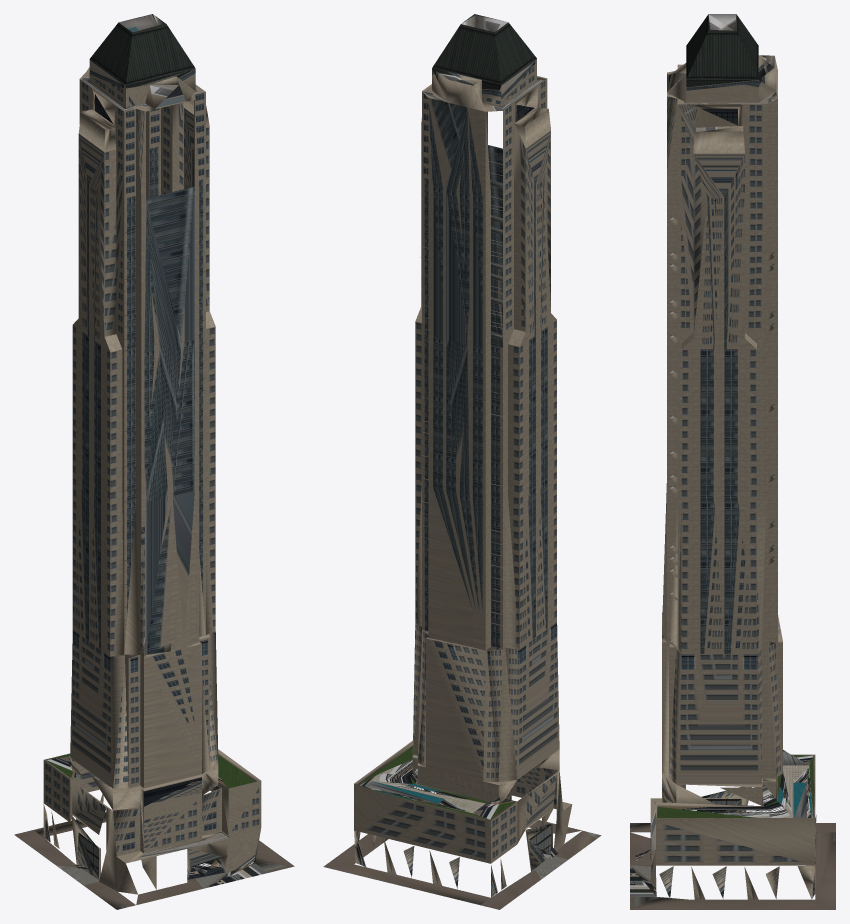
Rendered from thap-cao.glb.
The picture shows the model from 3 angles, left to right: view 1: azimuth 30°, elevation 25°; view 2: azimuth 150°, elevation 25°; view 3: azimuth 270°, elevation 25°; orthographic projection.
Visible parts, largest first — view 1: hirise13_Material #26_0; view 2: hirise13_Material #26_0; view 3: hirise13_Material #26_0.
Part boxes in pixels (x1=…): hirise13_Material #26_0: x1=14, y1=14, x2=294, y2=909; hirise13_Material #26_0: x1=323, y1=14, x2=601, y2=909; hirise13_Material #26_0: x1=630, y1=14, x2=835, y2=909.
Size of the model in its own units: 0.2158 by 0.9677 by 0.2158.
Materials: 1 (1 with a texture image).
